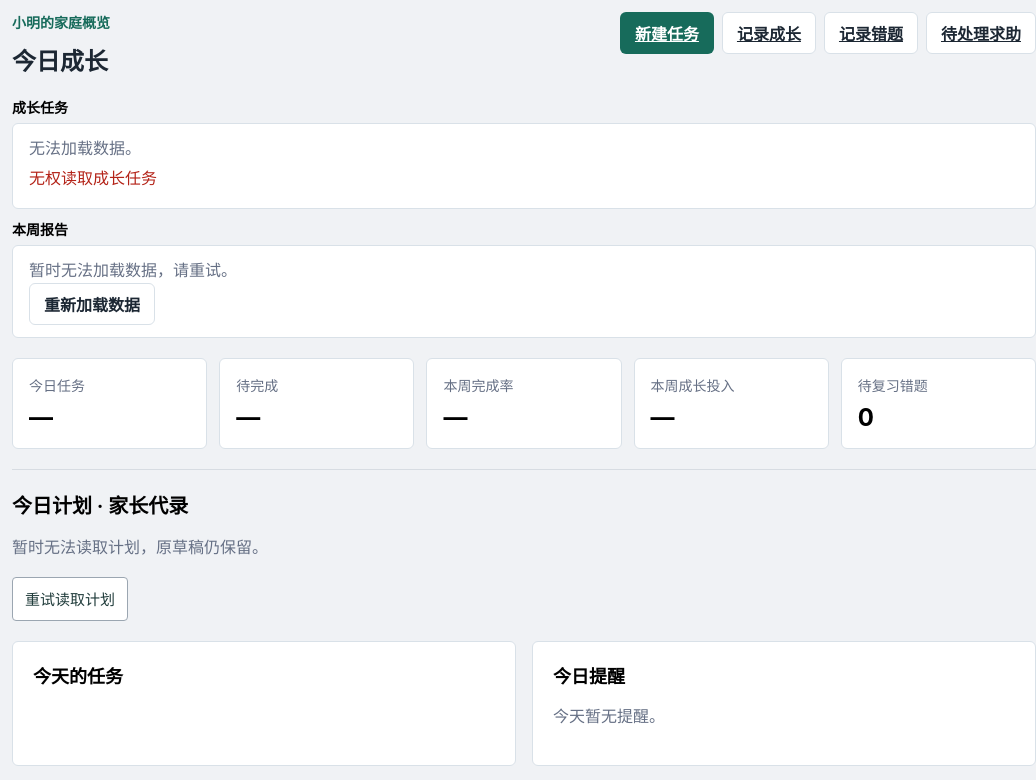
Task 9 today and task workflows › renders each failed Today source and retries only the selected retryable source
Check: the text "无权读取成长任务" is shown, box [29,168,157,188]
Click the button "重新加载数据": point(92, 304) [29,283,155,325]
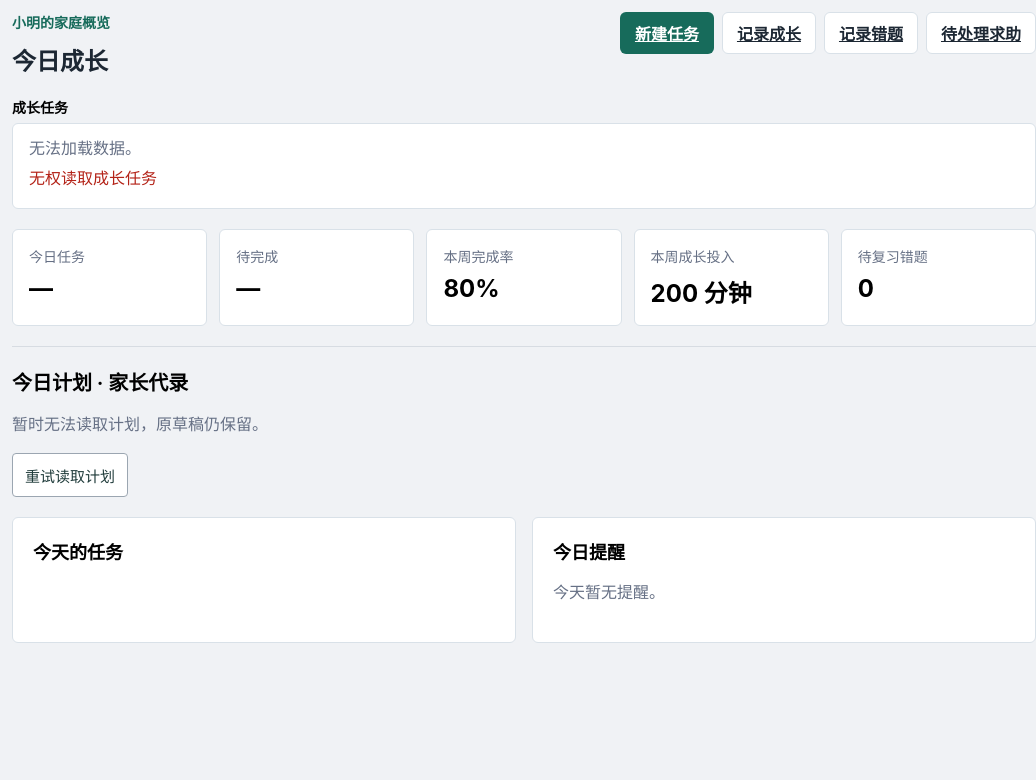
Check: the element named "成长任务加载失败" is shown, box [12,97,1035,209]
Check: the text "80%" is shown, box [443,274,500,303]
